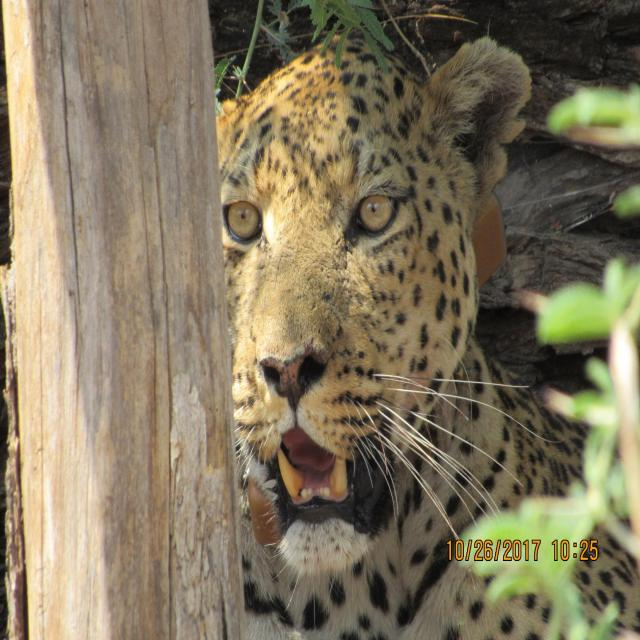Leopard: (198, 2, 640, 640)
